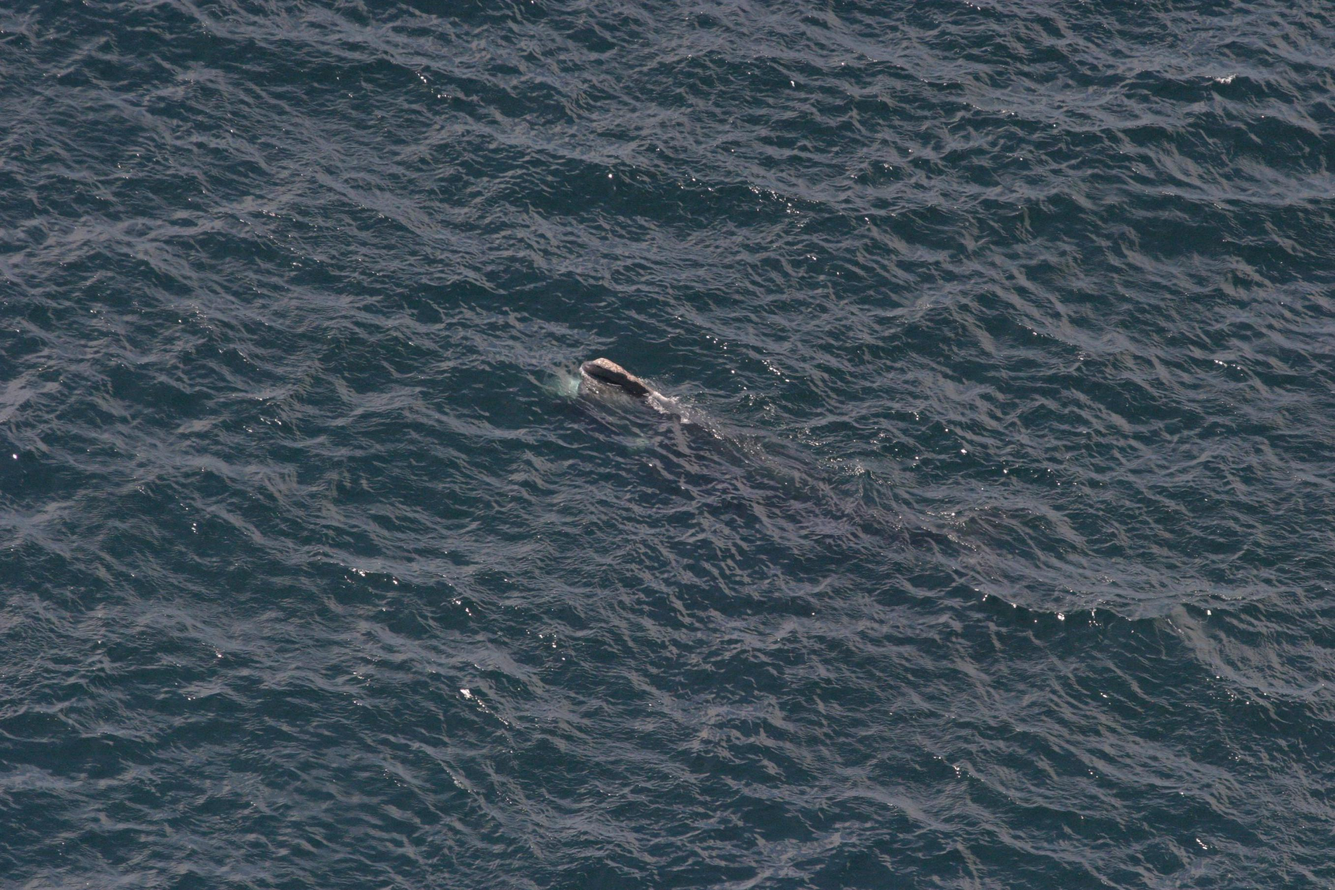whale: (534, 349, 804, 493)
